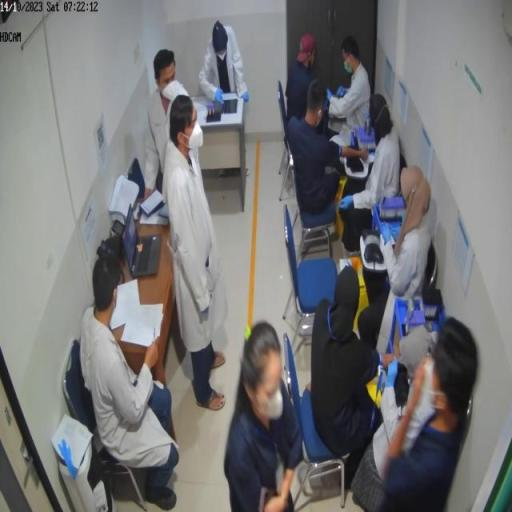person: (80, 257, 180, 508), (312, 268, 401, 493), (165, 96, 227, 417), (385, 319, 480, 509), (354, 325, 449, 507), (226, 321, 303, 507), (359, 166, 433, 356), (288, 82, 372, 217), (145, 51, 205, 221), (342, 95, 401, 259), (201, 22, 251, 175), (328, 40, 373, 159), (287, 34, 331, 149)
